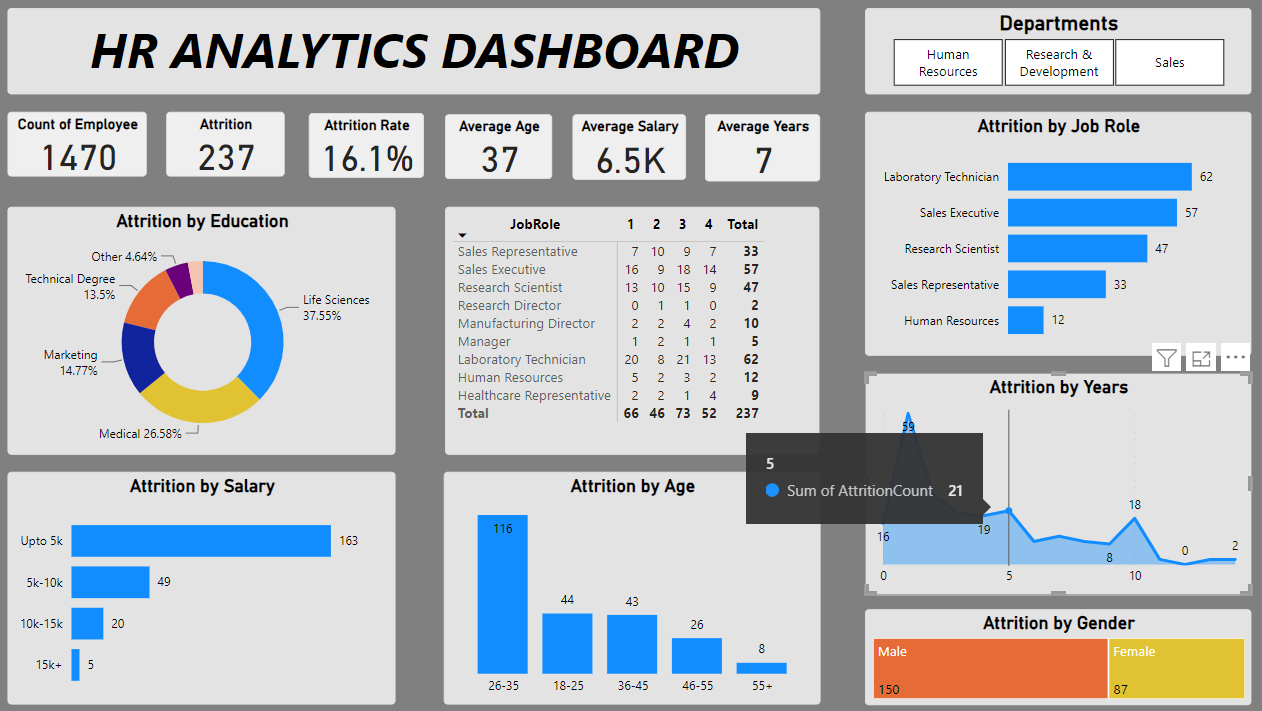

The page's visual inventory and layout, read from the dashboard file:
{"tool":"powerbi","page":{"name":"Page 1","canvas":[1280,720],"ordinal":0},"visuals":[{"type":"card","title":"Count of Employee","fields":{"Values":["CountNonNull(HR_Analytics.EmpID)"]},"box":[17,113.8,139.4,64.9],"z":0},{"type":"card","title":"Attrition","fields":{"Values":["Sum(HR_Analytics.AttritionCount)"]},"box":[176.6,113.8,118.1,64.9],"z":1000},{"type":"card","title":"Attrition Rate","fields":{"Values":["HR_Analytics.AttritionRate"]},"box":[319.1,114.9,114.9,64.9],"z":2000},{"type":"card","title":"Average Age ","fields":{"Values":["Avg(HR_Analytics.Age)"]},"box":[455.3,116,107.4,64.9],"z":3000},{"type":"card","title":"Average Salary","fields":{"Values":["Avg(HR_Analytics.MonthlyIncome)"]},"box":[583,116,113.8,66],"z":4000},{"type":"card","title":"Average Years ","fields":{"Values":["Avg(HR_Analytics.YearsAtCompany)"]},"box":[714.9,116,114.9,67],"z":5000},{"type":"donutChart","title":"Attrition by Education","fields":{"Category":["HR_Analytics.EducationField"],"Y":["Sum(HR_Analytics.AttritionCount)"]},"box":[17,208.5,388.3,247.9],"z":6000},{"type":"columnChart","title":"Attrition by Age","fields":{"Category":["HR_Analytics.AgeGroup"],"Y":["Sum(HR_Analytics.AttritionCount)"]},"box":[453.2,473.4,376.6,233],"z":7000},{"type":"pivotTable","fields":{"Rows":["HR_Analytics.JobRole"],"Columns":["HR_Analytics.JobSatisfaction"],"Values":["Sum(HR_Analytics.AttritionCount)"]},"box":[455.3,208.5,374.5,247.9],"z":8000},{"type":"barChart","title":"Attrition by Salary","fields":{"Category":["HR_Analytics.SalarySlab"],"Y":["Sum(HR_Analytics.AttritionCount)"]},"box":[17,473.4,388.3,233],"z":9000},{"type":"barChart","title":"Attrition by Job Role","fields":{"Category":["HR_Analytics.JobRole"],"Y":["Sum(HR_Analytics.AttritionCount)"]},"box":[875.5,113.8,386.2,243.6],"z":10000},{"type":"areaChart","title":"Attrition by Years","fields":{"Category":["HR_Analytics.YearsAtCompany"],"Y":["Sum(HR_Analytics.AttritionCount)"]},"box":[875,375,386.2,222.5],"z":11000},{"type":"treemap","title":"Attrition by Gender","fields":{"Group":["HR_Analytics.Gender"],"Values":["Sum(HR_Analytics.AttritionCount)"]},"box":[875.5,610.6,386.2,95.7],"z":12000},{"type":"slicer","title":"Departments","fields":{"Values":["HR_Analytics.Department"]},"box":[875.5,9.6,386.2,86.2],"z":13000},{"type":"textbox","box":[17,9.6,812.8,86.2],"z":14000}]}

Visuals, with their boxes in screenshot pixels (x1, y1, x2, y2), scaled from the page's 1280x720 canvas onto the 1262x711 screenshot:
"Count of Employee" card: rect(17, 112, 154, 176)
"Attrition" card: rect(174, 112, 291, 176)
"Attrition Rate" card: rect(315, 113, 428, 178)
"Average Age " card: rect(449, 115, 555, 179)
"Average Salary" card: rect(575, 115, 687, 180)
"Average Years " card: rect(705, 115, 818, 181)
"Attrition by Education" donutChart: rect(17, 206, 400, 451)
"Attrition by Age" columnChart: rect(447, 467, 818, 698)
pivotTable - HR_Analytics.JobRole x HR_Analytics.JobSatisfaction: rect(449, 206, 818, 451)
"Attrition by Salary" barChart: rect(17, 467, 400, 698)
"Attrition by Job Role" barChart: rect(863, 112, 1244, 353)
"Attrition by Years" areaChart: rect(863, 370, 1243, 590)
"Attrition by Gender" treemap: rect(863, 603, 1244, 697)
"Departments" slicer: rect(863, 9, 1244, 95)
textbox: rect(17, 9, 818, 95)
